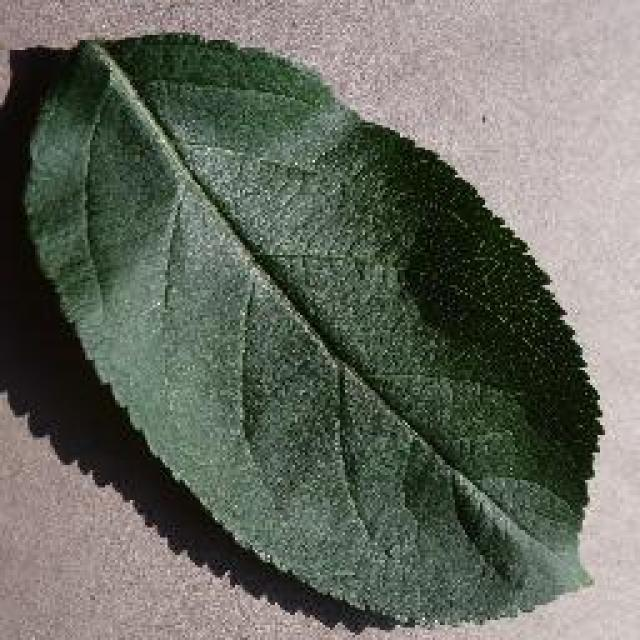apple healthy: (13, 28, 605, 628)
